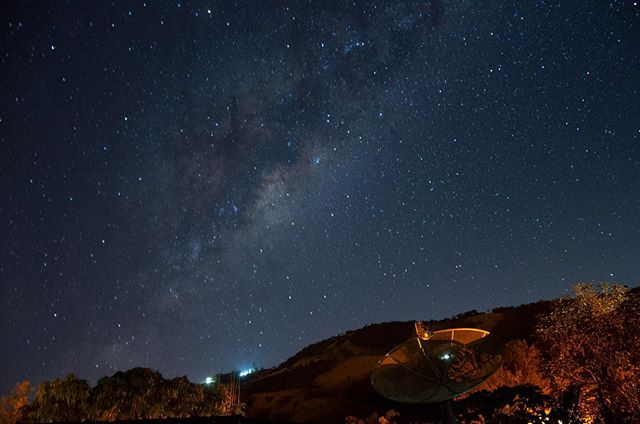sky: (17, 1, 640, 339)
tree: (520, 300, 634, 424)
